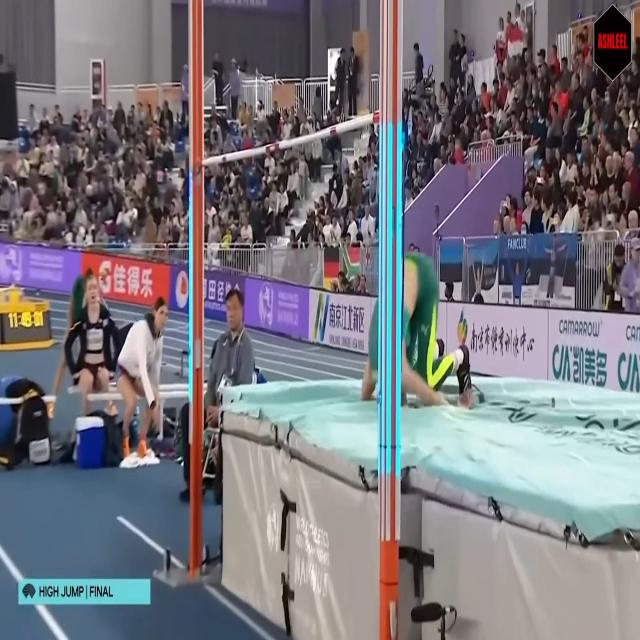land: (360, 252, 470, 409)
